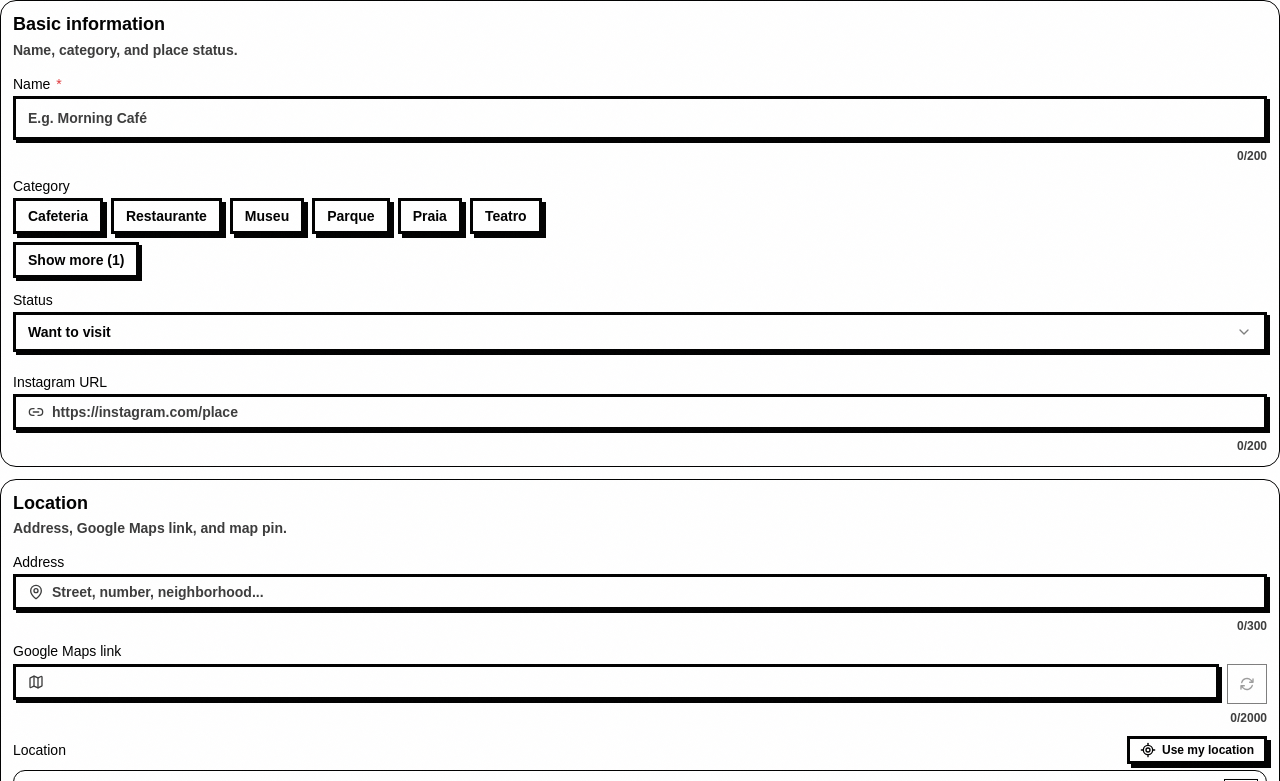
Test case: shows six categories first and toggles the remaining categories
expect the button "Cafeteria" is shown: met, box [13,198,103,234]
expect the button "Trilha" is not shown: met
Step 1. Click the button "Show more (1)" → click(76, 260), box [13,242,140,278]
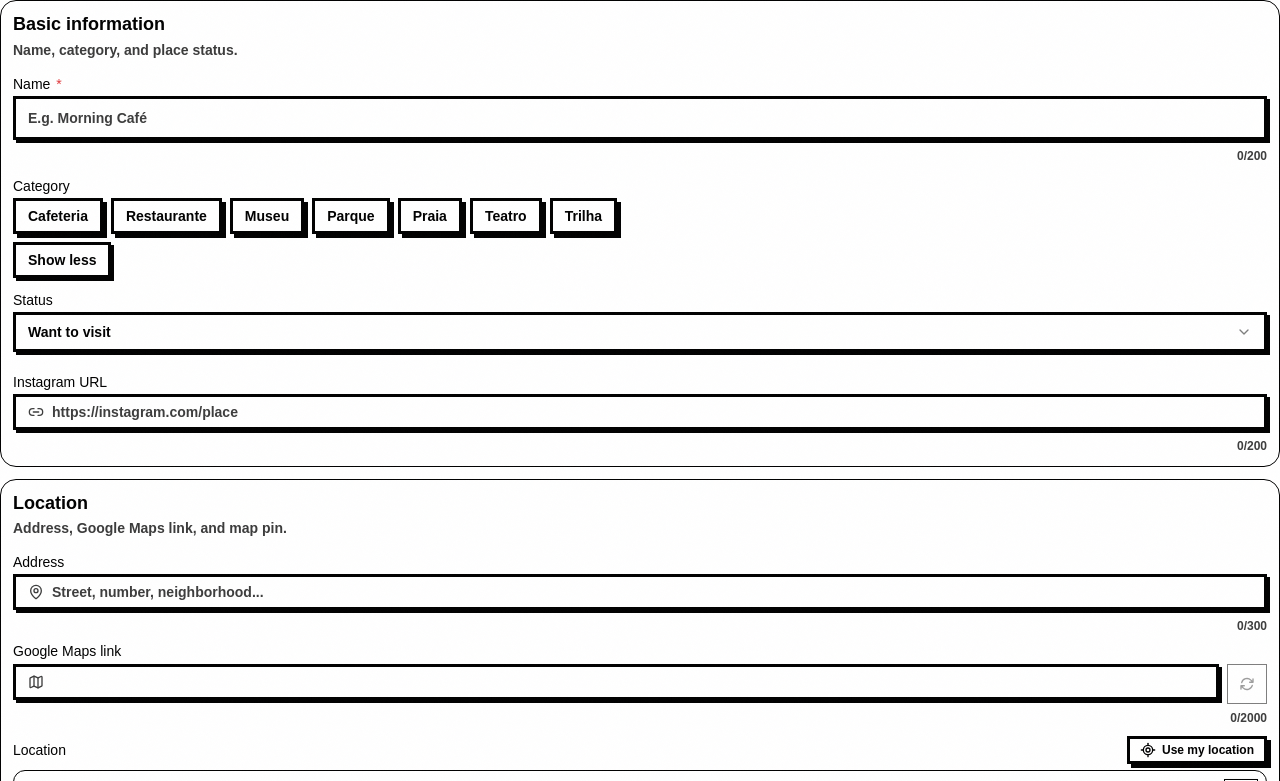
expect the button "Trilha" is shown: met, box [550,198,617,234]
Step 2. Click the button "Show less" → click(62, 260), box [13,242,112,278]
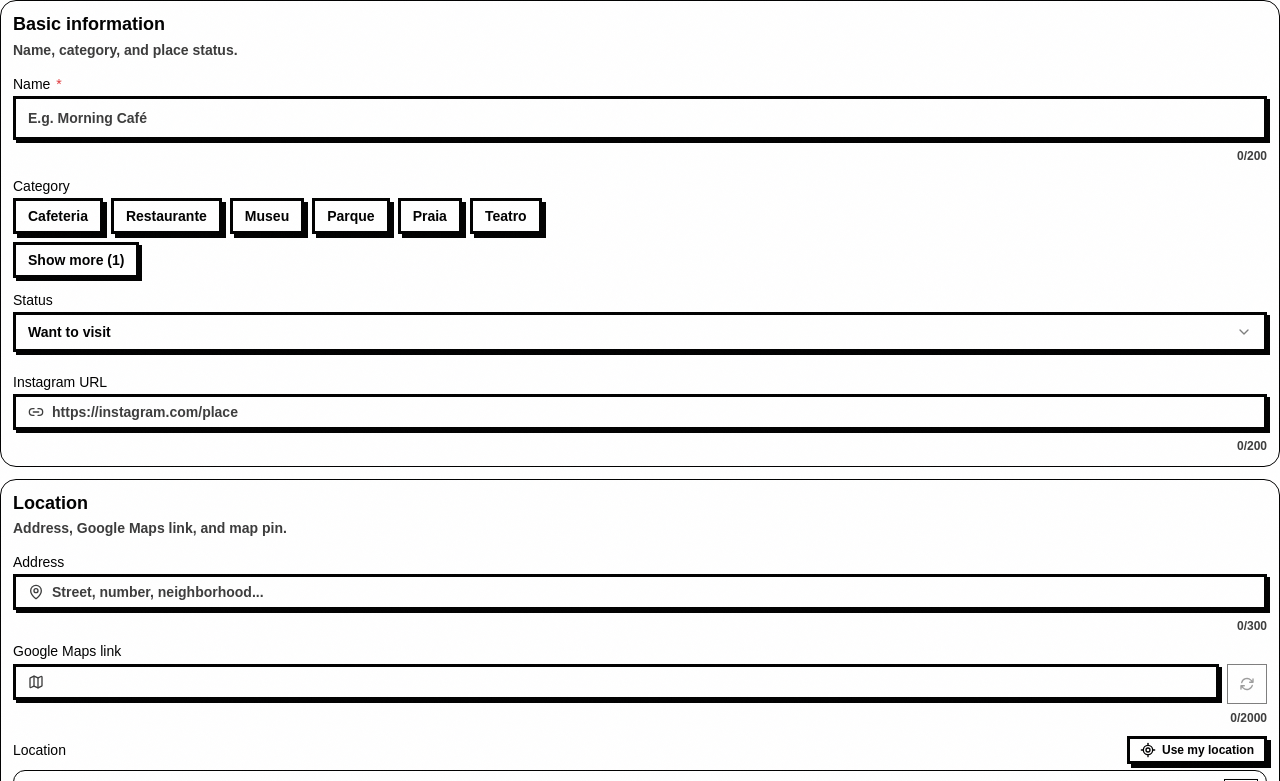
expect the button "Trilha" is gone: met
